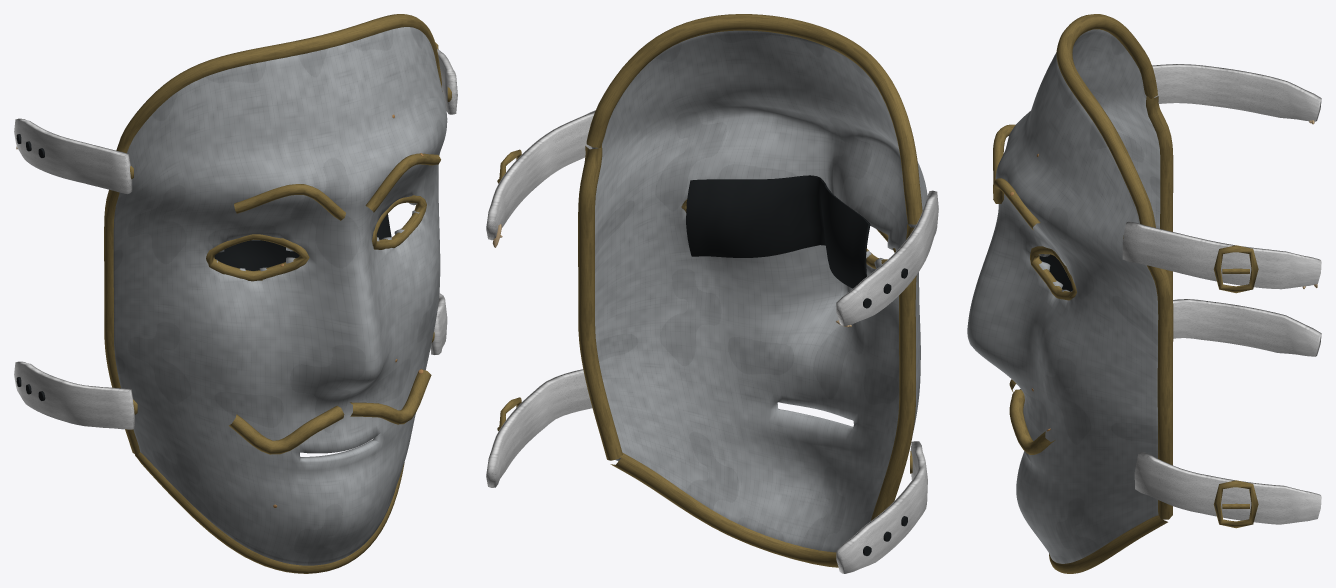
3 views of the same model, side by side, from view 1: azimuth 30°, elevation 25°; view 2: azimuth 150°, elevation 25°; view 3: azimuth 270°, elevation 25° (orthographic). The views are drawn at different scales.
Visible parts, largest first — view 1: polished fluted plate, aged alloy edge, oiled strap leather, recess and lining; view 2: polished fluted plate, aged alloy edge, oiled strap leather, recess and lining; view 3: polished fluted plate, oiled strap leather, aged alloy edge, recess and lining.
Part boxes in pixels (x1,y1,x2,y2): polished fluted plate: (113,27,447,565); aged alloy edge: (104,14,451,573); oiled strap leather: (14,49,457,429); recess and lining: (16,134,391,400); polished fluted plate: (591,30,927,552); aged alloy edge: (497,14,922,567); oiled strap leather: (486,110,938,573); recess and lining: (686,175,907,555); polished fluted plate: (967,29,1160,563); oiled strap leather: (1122,64,1321,524); aged alloy edge: (993,14,1258,573); recess and lining: (1039,254,1072,291).
Size of the model in its own units: 0.1781 by 0.2298 by 0.1434.
Materials: 6 (3 with a texture image).
